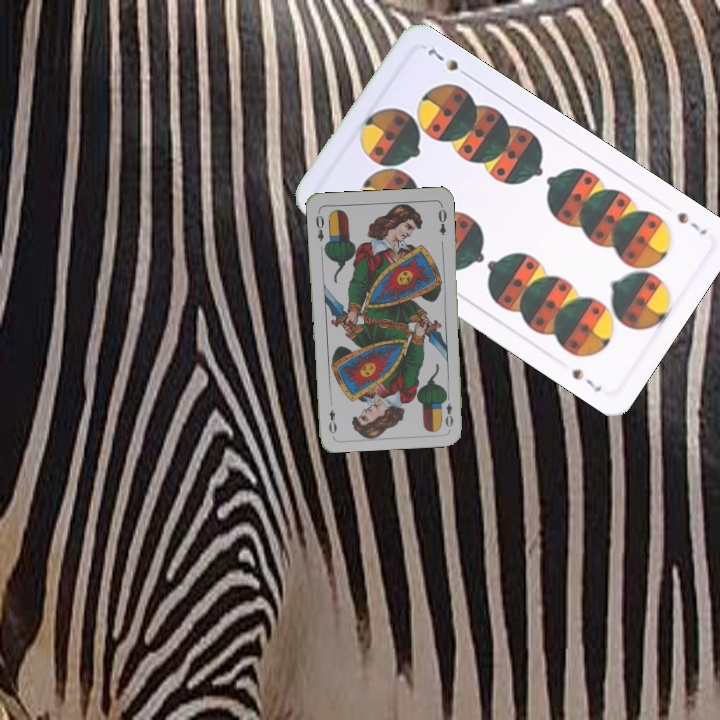EO: (440, 390, 455, 430), (311, 208, 326, 244)
S7: (673, 208, 710, 238)
